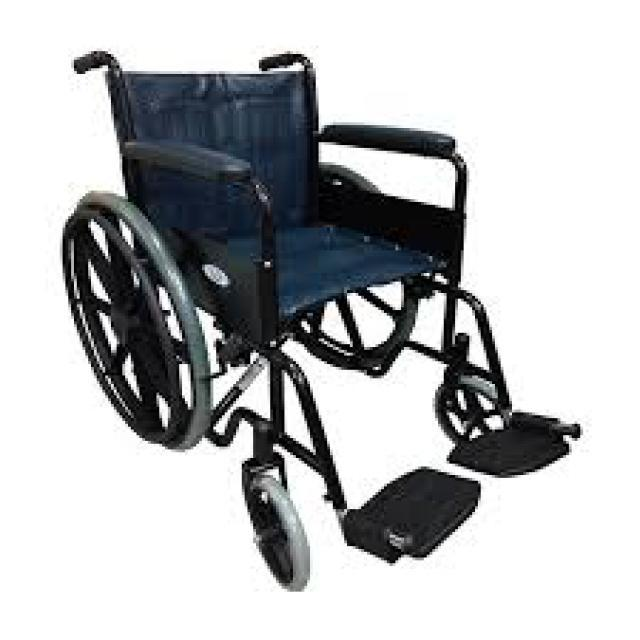wheelchair: (34, 34, 592, 603)
